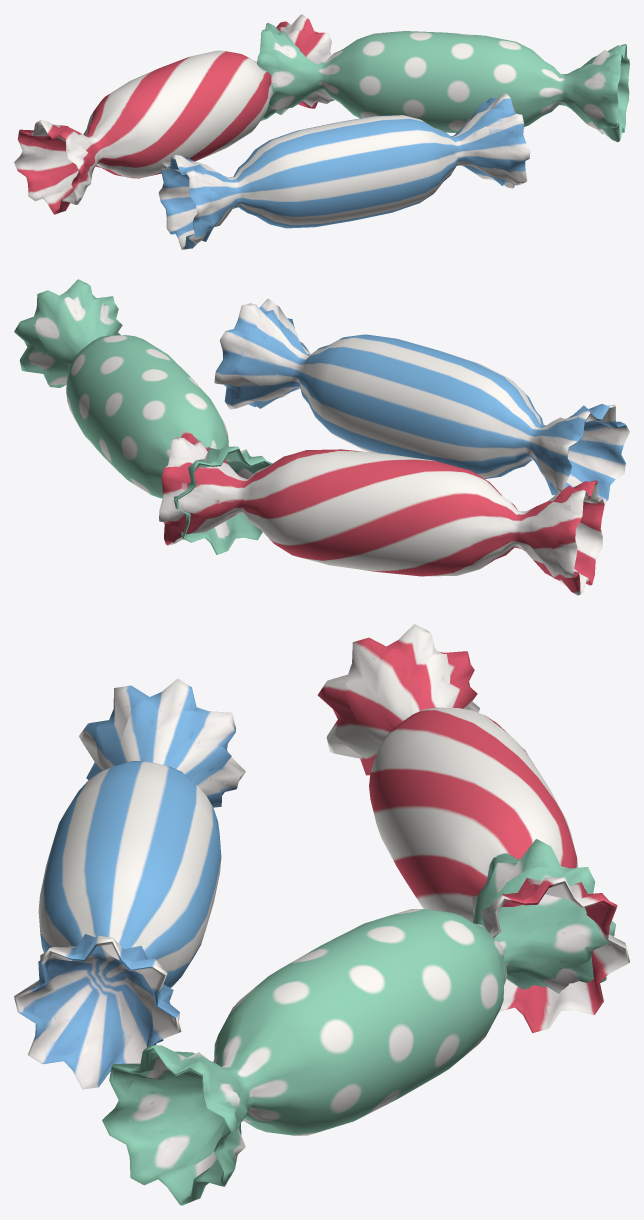
Rendered from wrapped-candy.glb.
3 views of the same model, one above another, from view 1: azimuth 30°, elevation 25°; view 2: azimuth 150°, elevation 25°; view 3: azimuth 270°, elevation 25° (orthographic). The views are drawn at different scales.
Visible parts, largest first — view 1: wrapped-candy_body; view 2: wrapped-candy_body; view 3: wrapped-candy_body.
Part boxes in pixels (x1=…): wrapped-candy_body: x1=14, y1=14, x2=629, y2=250; wrapped-candy_body: x1=14, y1=279, x2=629, y2=595; wrapped-candy_body: x1=14, y1=624, x2=629, y2=1205.
Bounding box in the file's own units: 0.1318 × 0.021 × 0.0753.
1 material, 1 textured.
